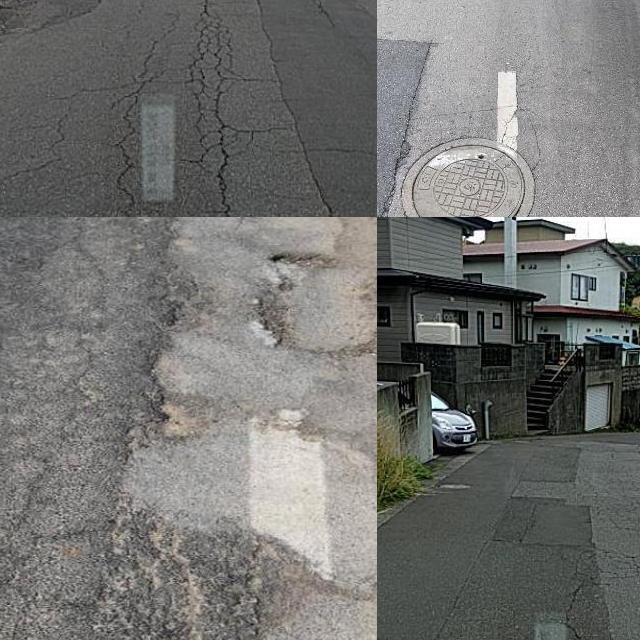Lubang: (402, 139, 537, 217)
Memanjang: (103, 17, 166, 217), (205, 0, 245, 217)
Pinggir: (64, 217, 377, 605)
Sambungan: (377, 486, 615, 640), (259, 0, 377, 217)
